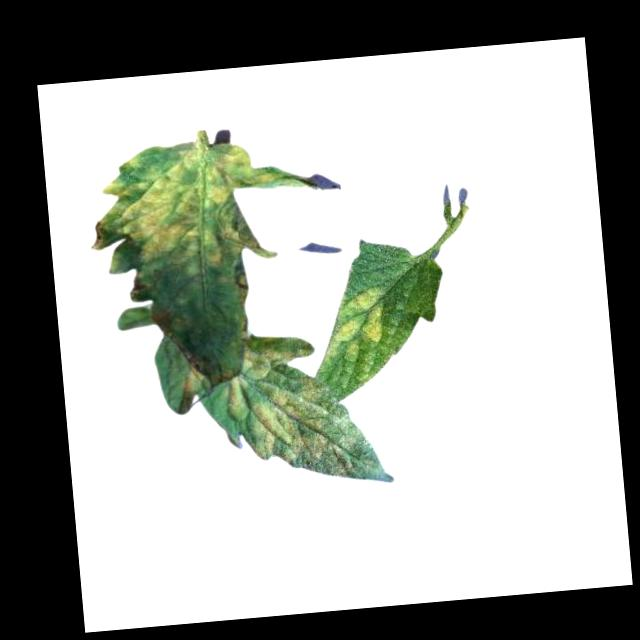Leaf_Mold: (81, 137, 279, 282), (226, 368, 356, 473), (320, 286, 387, 362), (241, 338, 313, 381), (181, 368, 204, 396)
